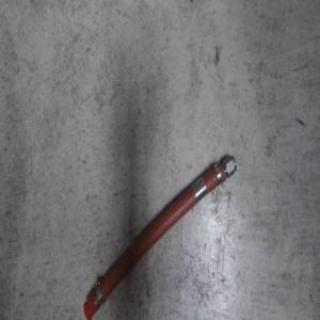Hosetrack_idkeyframe: (81, 146, 238, 319)
